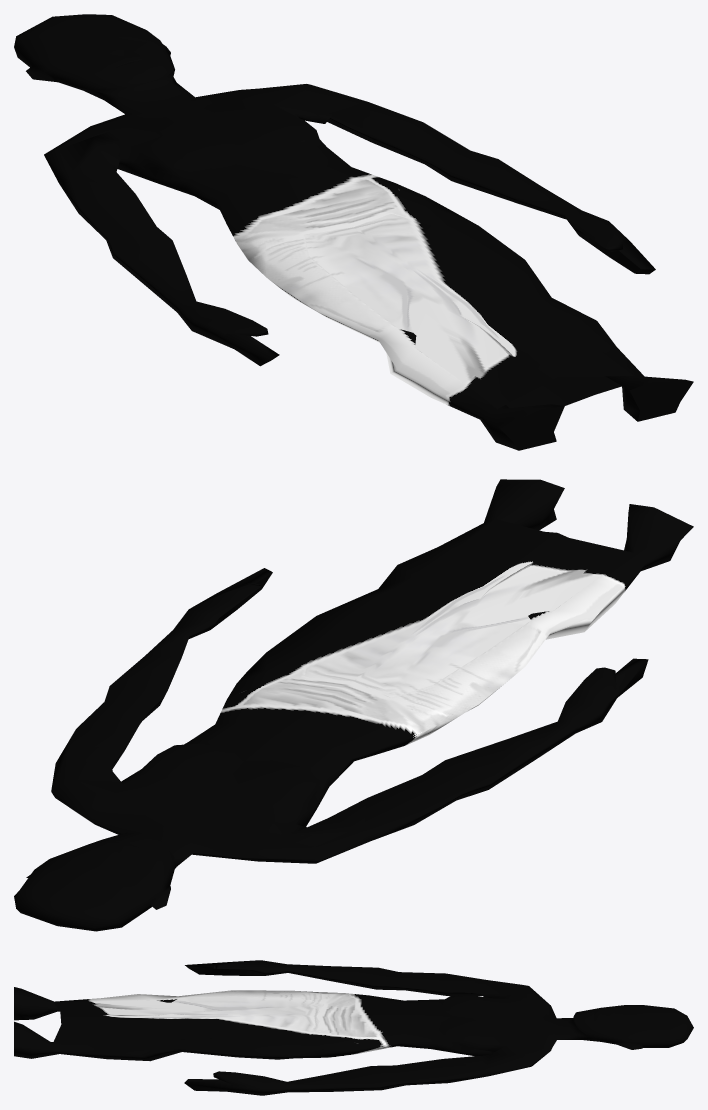
File: WorldItem_General.fbx
3 views of the same model, one above another, from view 1: azimuth 30°, elevation 25°; view 2: azimuth 150°, elevation 25°; view 3: azimuth 270°, elevation 25° (orthographic). The views are drawn at different scales.
Visible parts, largest first — view 1: Body; view 2: Body; view 3: Body.
Boxes of the visible parts, box(x1,y1,x2,y2) form: Body: box(14, 14, 693, 450); Body: box(14, 479, 693, 931); Body: box(14, 960, 693, 1095).
Bounding box in the file's own units: 0.3486 × 0.0337 × 0.7954.
